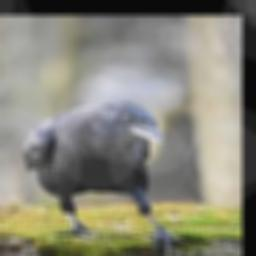Crow: (20, 101, 187, 255)
